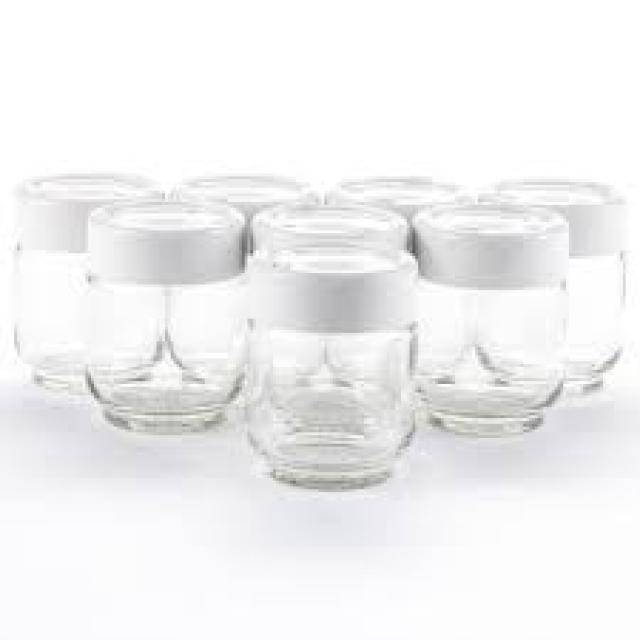Dry Waste: (246, 202, 423, 497)
